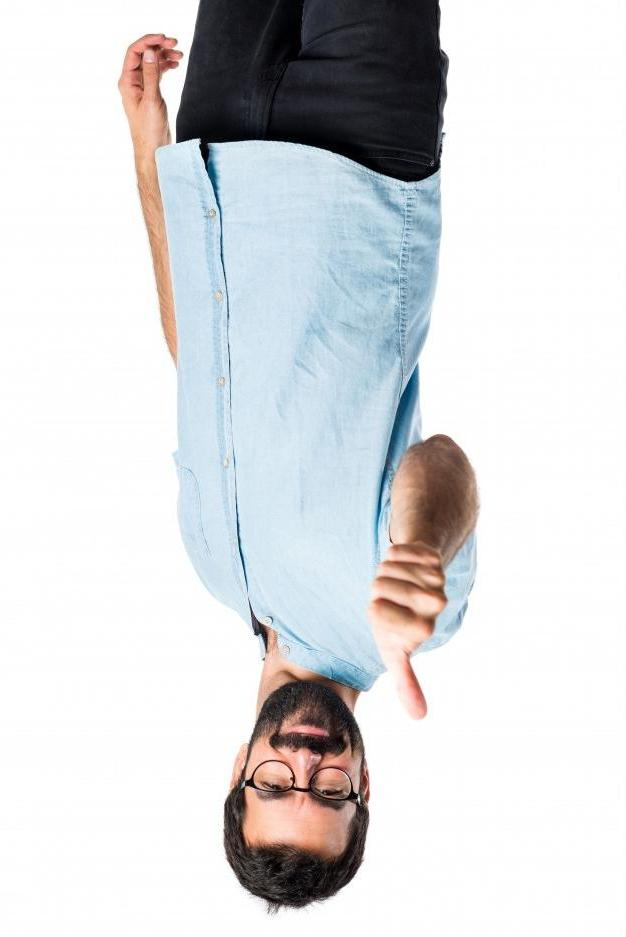thumbsdown: (371, 544, 448, 721)
